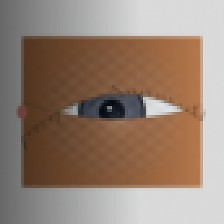pinguecula_lesion: (41, 94, 74, 120)
